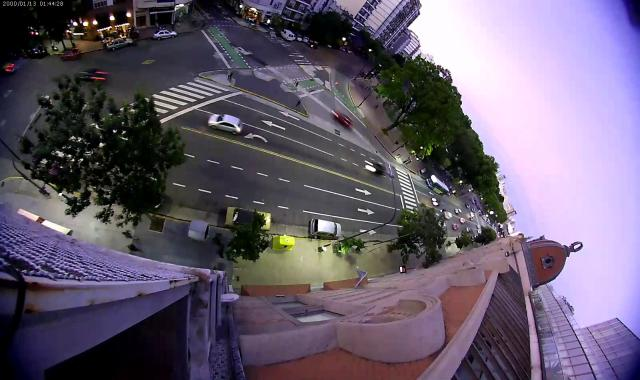bus: (426, 175, 449, 196)
car: (224, 206, 272, 232), (208, 114, 244, 135), (309, 218, 342, 239), (106, 38, 134, 52), (78, 68, 105, 82), (25, 45, 48, 60), (333, 111, 352, 128), (59, 48, 82, 61), (152, 29, 178, 40), (367, 162, 384, 176), (1, 63, 18, 76), (280, 29, 294, 42), (308, 42, 319, 50), (431, 198, 440, 206), (444, 211, 452, 219), (454, 208, 462, 214), (452, 224, 459, 230), (303, 36, 309, 42), (466, 227, 472, 233), (297, 35, 302, 42), (459, 218, 466, 223), (465, 203, 470, 208), (470, 212, 474, 217), (471, 208, 476, 212), (470, 216, 474, 220), (477, 230, 481, 234), (476, 224, 480, 228)
